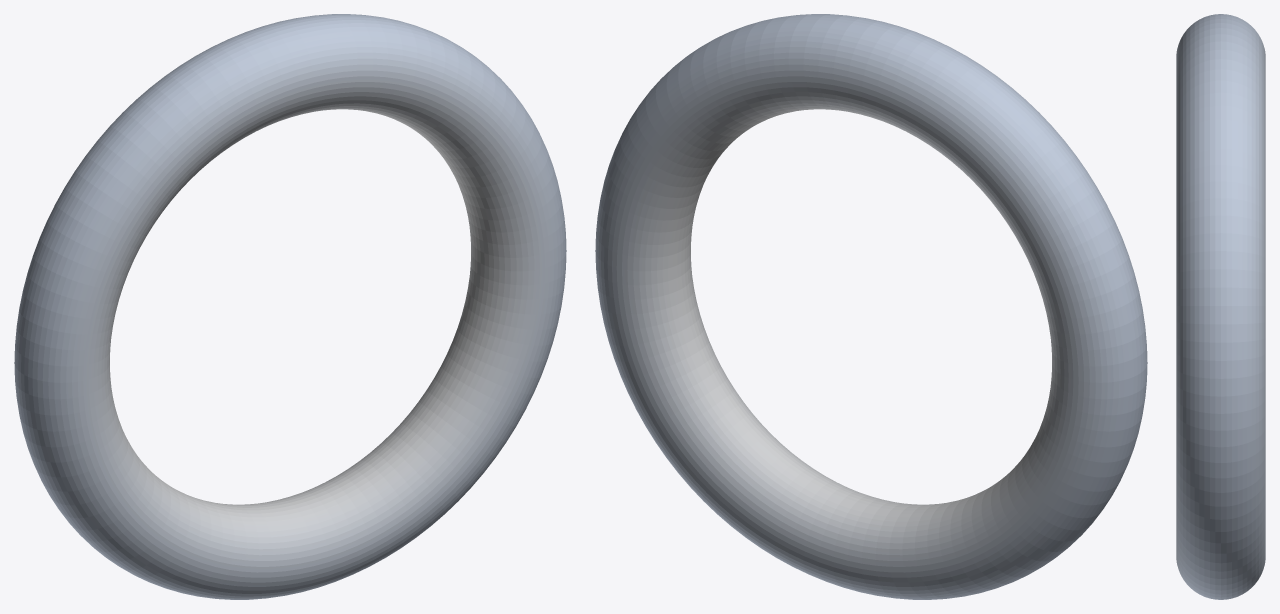
3 renders of one model, left to right at view 1: azimuth 30°, elevation 25°; view 2: azimuth 150°, elevation 25°; view 3: azimuth 270°, elevation 25°, orthographic. The views are drawn at different scales.
Visible parts, largest first — view 1: world; view 2: world; view 3: world.
Boxes of the visible parts, box(x1,y1,x2,y2) form: world: box(14, 14, 566, 599); world: box(595, 14, 1147, 599); world: box(1176, 14, 1265, 599).
Bounding box in the file's own units: 16.53 × 16.53 × 2.53.
